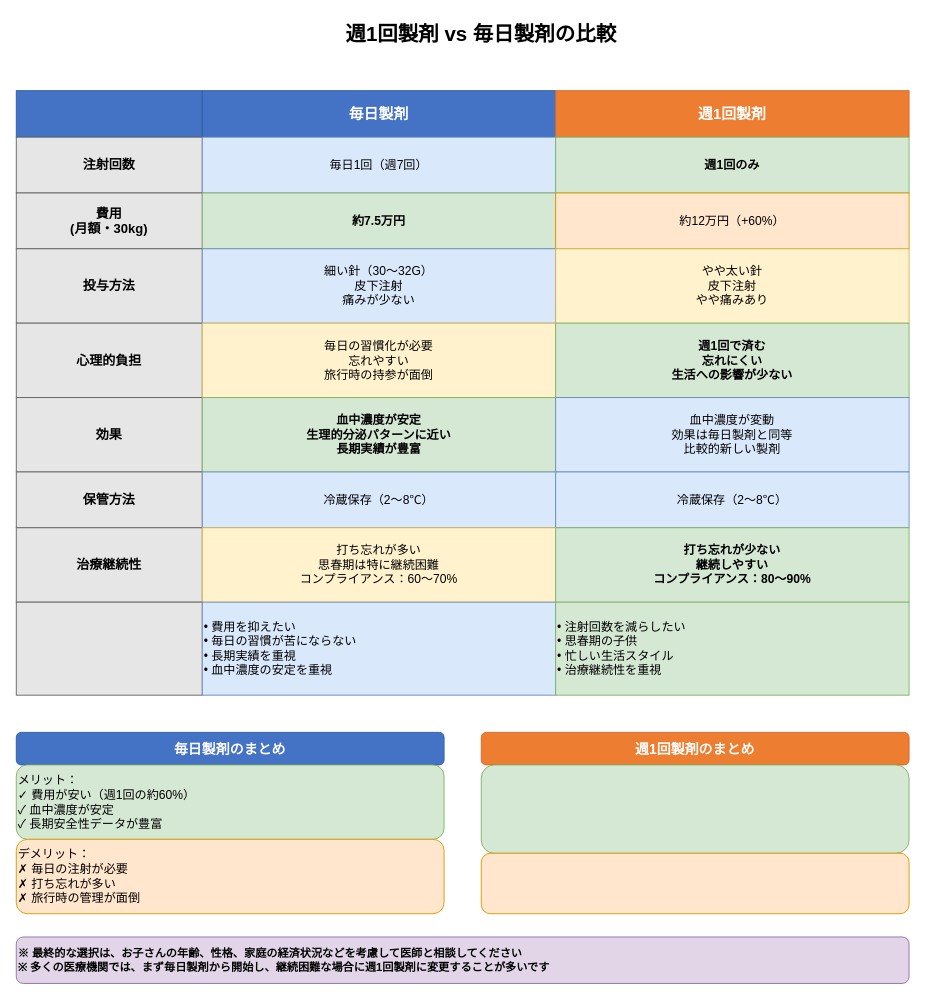
Image size: 925x1000. Some labels were removed from this diagram. Here are the shapes that lost their labels. From the top down, the box of each, then its label:
(15, 90, 202, 137): 比較項目
(15, 601, 202, 695): 適している人
(480, 764, 909, 853): メリット： ✓ 週1回の注射で済む ✓ 治療継続性が高い ✓ 生活への影響が少ない ✓ 思春期でも続けやすい
(480, 852, 909, 914): デメリット： ✗ 費用が高い（毎日の約1.6倍） ✗ 血中濃度が変動する ✗ 長期データが比較的少ない
